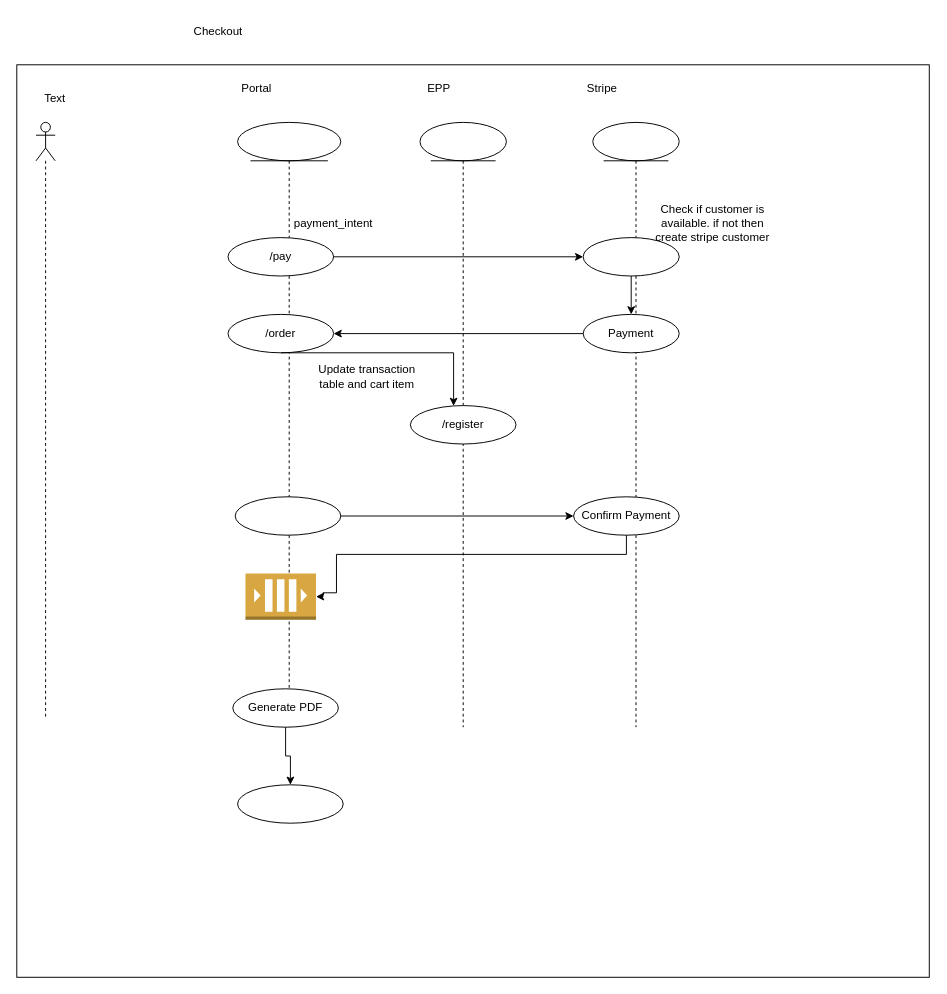
The diagram is 947 pixels wide and 994 high, and some of its shapes have lost their labels. Each missing label, with the box of its shape:
Check Customer: (582, 237, 679, 276)
Confirm: (234, 496, 341, 535)
Send Notification: (237, 784, 343, 823)
